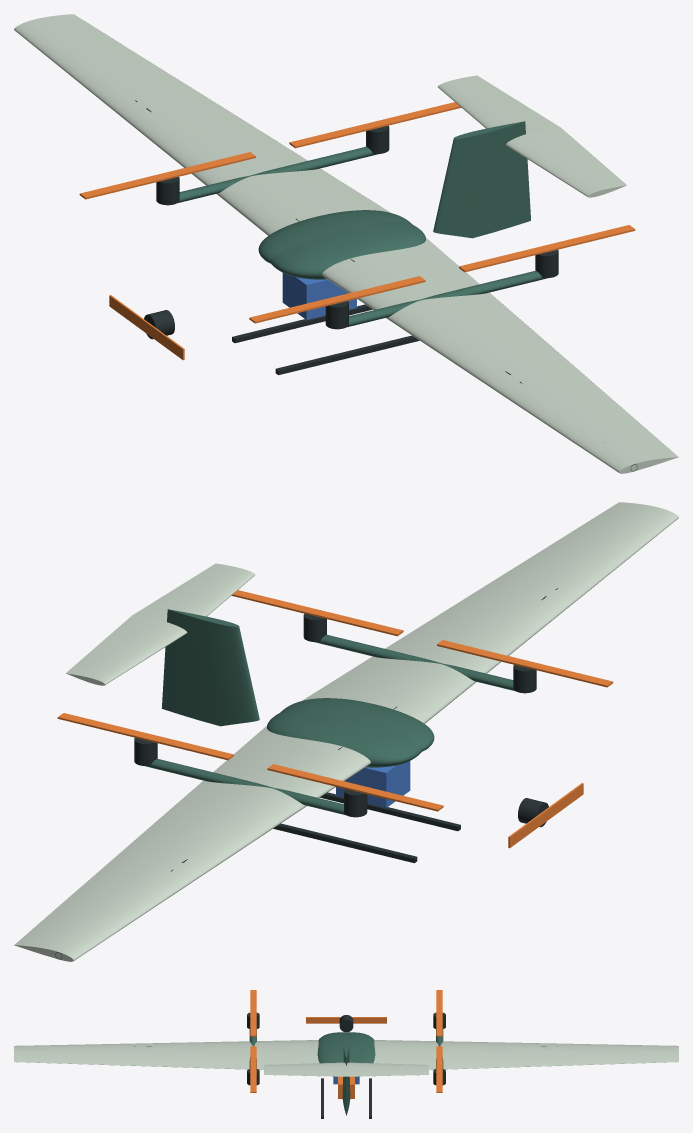
Rendered from control-09-internal.glb.
3 views of the same model, one above another, from view 1: azimuth 30°, elevation 25°; view 2: azimuth 150°, elevation 25°; view 3: azimuth 270°, elevation 25° (orthographic). The views are drawn at different scales.
Visible parts, largest first — view 1: wing-1, wing1, fin, root_fairing-1, tail-1, tail1, root_fairing1, payload, boom_fairing-1, boom_fairing1, prop_-1_200.0, prop_-1_700.0 (+5 smaller); view 2: wing1, wing-1, fin, root_fairing1, tail1, tail-1, root_fairing-1, payload, boom_fairing1, boom_fairing-1, prop_1_200.0, prop_1_700.0 (+5 smaller); view 3: wing-1, wing1, tail-1, tail1, root_fairing-1, root_fairing1, cruise_prop, fin, prop_-1_200.0, prop_-1_700.0, prop_1_200.0, prop_1_700.0 (+2 smaller).
Boxes of the visible parts, x1=… form: wing-1: x1=322, y1=238, x2=678, y2=473; wing1: x1=14, y1=14, x2=390, y2=235; fin: x1=433, y1=121, x2=530, y2=238; root_fairing-1: x1=270, y1=222, x2=425, y2=279; tail-1: x1=506, y1=127, x2=626, y2=197; tail1: x1=437, y1=75, x2=560, y2=133; root_fairing1: x1=258, y1=210, x2=412, y2=263; payload: x1=282, y1=273, x2=356, y2=319; boom_fairing-1: x1=347, y1=270, x2=548, y2=327; boom_fairing1: x1=177, y1=146, x2=378, y2=203; prop_-1_200.0: x1=249, y1=276, x2=425, y2=323; prop_-1_700.0: x1=459, y1=225, x2=635, y2=272; wing1: x1=14, y1=726, x2=370, y2=961; wing-1: x1=302, y1=502, x2=678, y2=723; fin: x1=162, y1=609, x2=259, y2=726; root_fairing1: x1=267, y1=710, x2=422, y2=767; tail1: x1=66, y1=615, x2=187, y2=685; tail-1: x1=132, y1=563, x2=255, y2=621; root_fairing-1: x1=280, y1=698, x2=434, y2=751; payload: x1=336, y1=761, x2=410, y2=807; boom_fairing1: x1=145, y1=758, x2=345, y2=815; boom_fairing-1: x1=314, y1=634, x2=515, y2=691; prop_1_200.0: x1=267, y1=764, x2=443, y2=811; prop_1_700.0: x1=57, y1=713, x2=233, y2=760; wing-1: x1=14, y1=1040, x2=319, y2=1069; wing1: x1=373, y1=1040, x2=678, y2=1069; tail-1: x1=264, y1=1062, x2=346, y2=1076; tail1: x1=346, y1=1062, x2=428, y2=1076; root_fairing-1: x1=317, y1=1032, x2=346, y2=1063; root_fairing1: x1=346, y1=1032, x2=375, y2=1063; cruise_prop: x1=306, y1=1017, x2=386, y2=1023; fin: x1=342, y1=1040, x2=350, y2=1115; prop_-1_200.0: x1=250, y1=990, x2=256, y2=1036; prop_-1_700.0: x1=250, y1=1046, x2=256, y2=1092; prop_1_200.0: x1=436, y1=990, x2=442, y2=1036; prop_1_700.0: x1=436, y1=1046, x2=442, y2=1092.
Size of the model in its own units: 989 by 390 by 2500.
